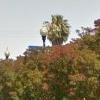Tree: (39, 10, 84, 84)
